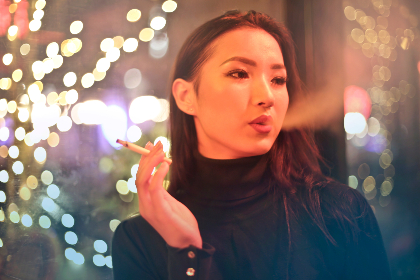cigarette: (113, 135, 174, 166)
